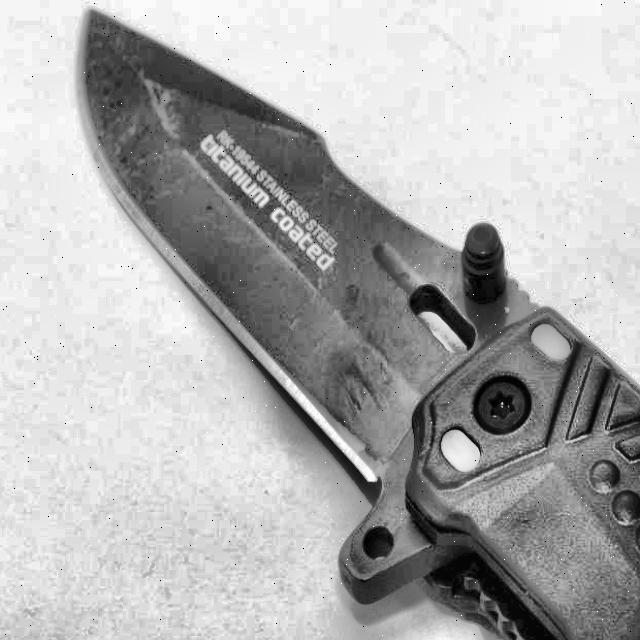knife: (75, 1, 640, 640)
